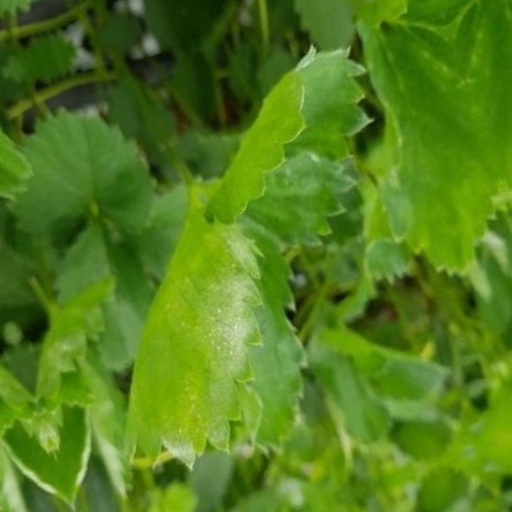Powdery Mildew Leaf: (248, 73, 444, 331)
